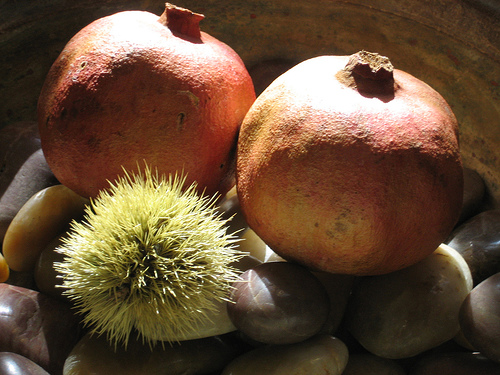pomogranate: (236, 48, 463, 277), (37, 3, 257, 200)
